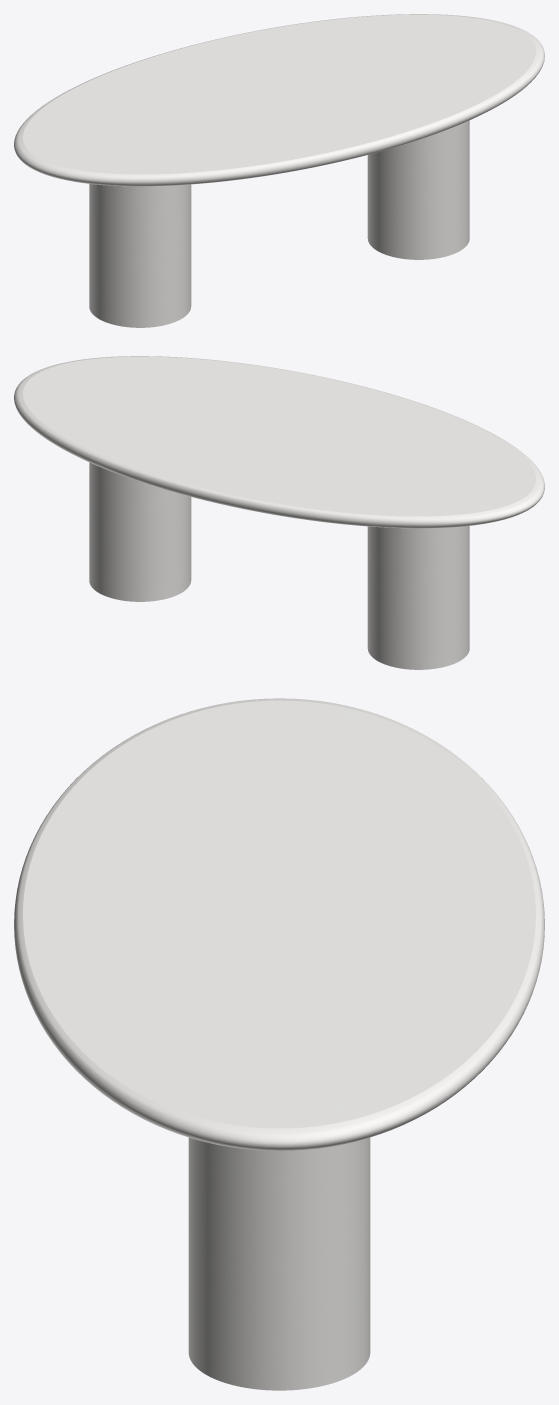
The model's file is purewhite_ellips_round_stream.glb.
The picture shows the model from 3 angles, top to bottom: view 1: azimuth 30°, elevation 25°; view 2: azimuth 150°, elevation 25°; view 3: azimuth 270°, elevation 25°; orthographic projection. The views are drawn at different scales.
Parts seen in each view (by area): view 1: round_ellips, stream; view 2: round_ellips, stream; view 3: round_ellips, stream.
Boxes of the visible parts, x1,y1,x2,y2 form: round_ellips: (14, 14, 544, 186); stream: (89, 120, 469, 327); round_ellips: (14, 356, 544, 528); stream: (89, 462, 469, 669); round_ellips: (14, 698, 544, 1150); stream: (188, 1137, 370, 1390).
Bounding box in the file's own units: 7.5 × 2.5 × 3.8.
Materials: 1 (1 with a texture image).
